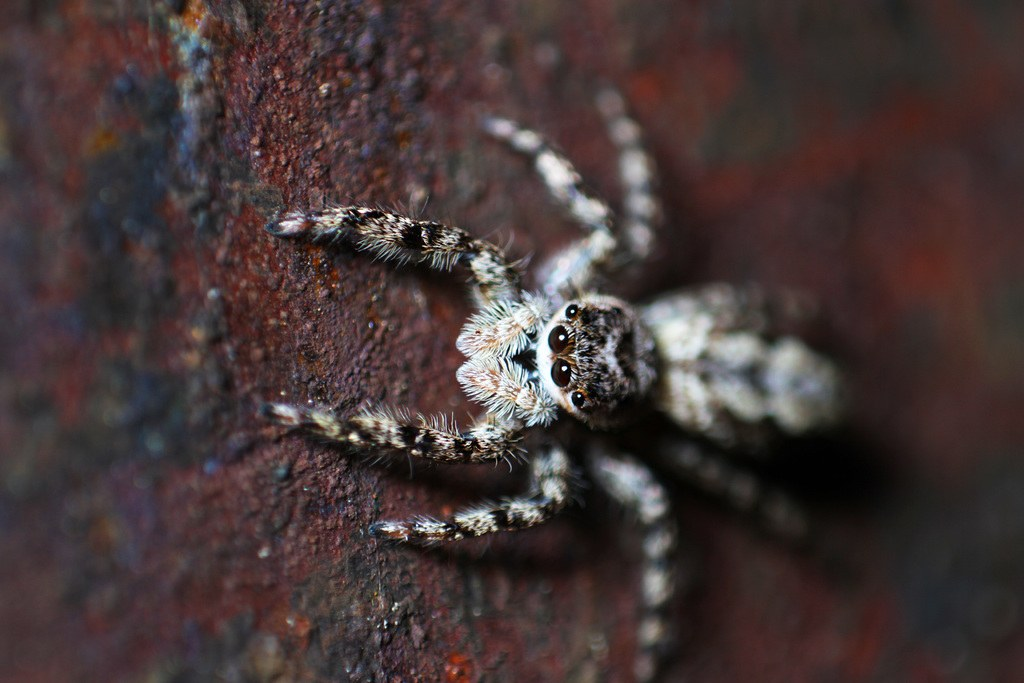insect: (252, 63, 850, 682), (253, 85, 846, 682)
